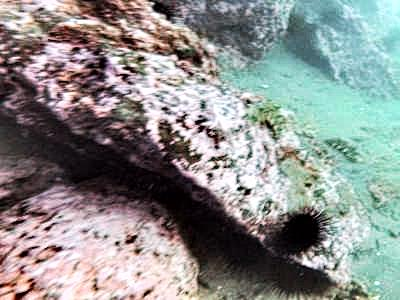urchin: (269, 205, 322, 253), (271, 261, 332, 296), (218, 230, 264, 276)
